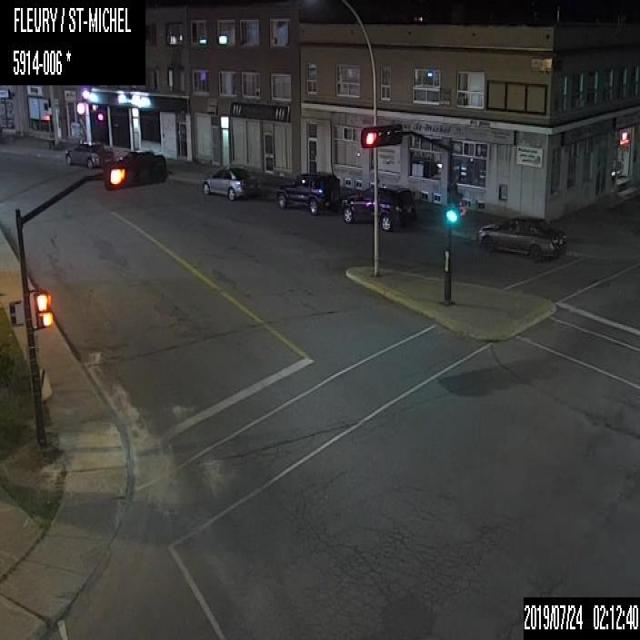vehicle: (476, 213, 566, 260), (341, 181, 416, 231), (276, 170, 340, 214), (201, 166, 262, 200), (64, 142, 113, 169)
